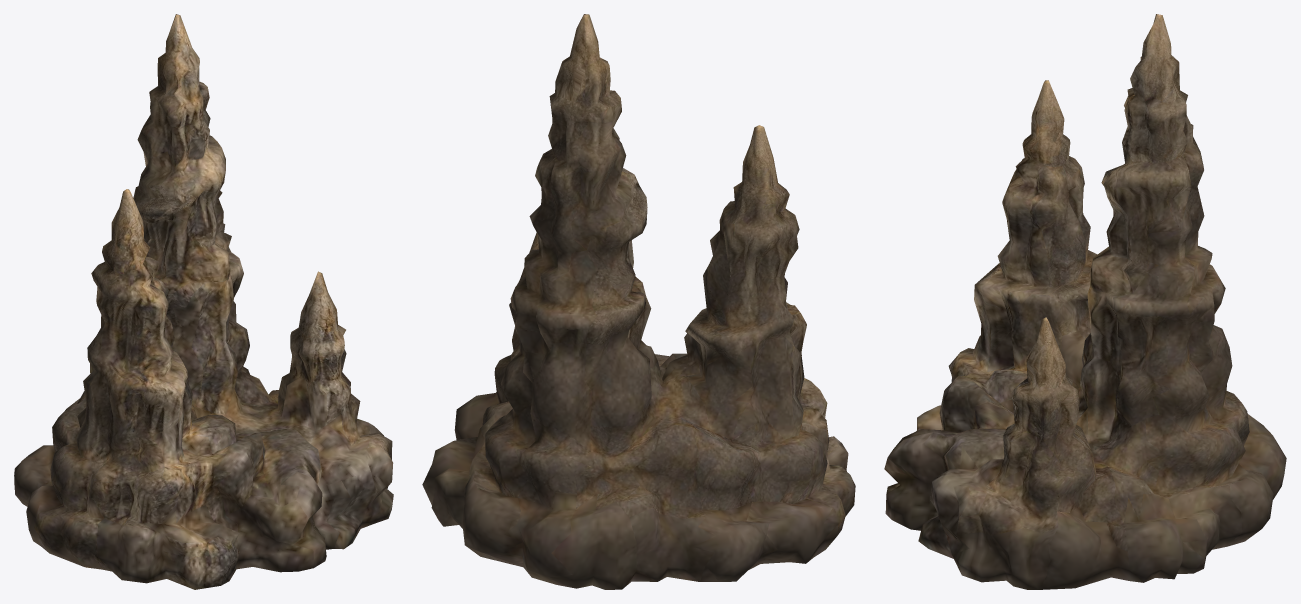
The model's file is p_stalagmite.glb.
3 renders of one model, left to right at view 1: azimuth 30°, elevation 25°; view 2: azimuth 150°, elevation 25°; view 3: azimuth 270°, elevation 25°, orthographic. The views are drawn at different scales.
Visible parts, largest first — view 1: p_stalagmite; view 2: p_stalagmite; view 3: p_stalagmite.
Part boxes in pixels (<box>): p_stalagmite: <box>14,14,393,589</box>; p_stalagmite: <box>422,14,855,589</box>; p_stalagmite: <box>884,14,1286,589</box>.
Size of the model in its own units: 0.9001 by 1.18 by 0.8612.
1 material, 1 textured.
